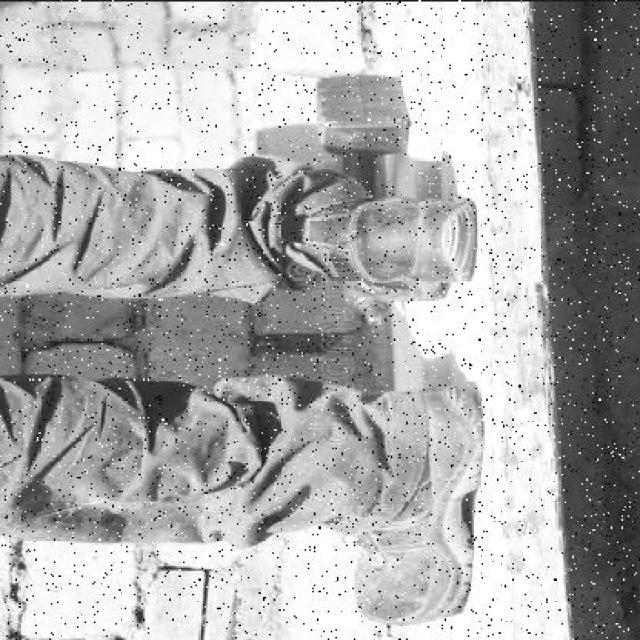shoes: (354, 383, 488, 629), (317, 192, 481, 308)
